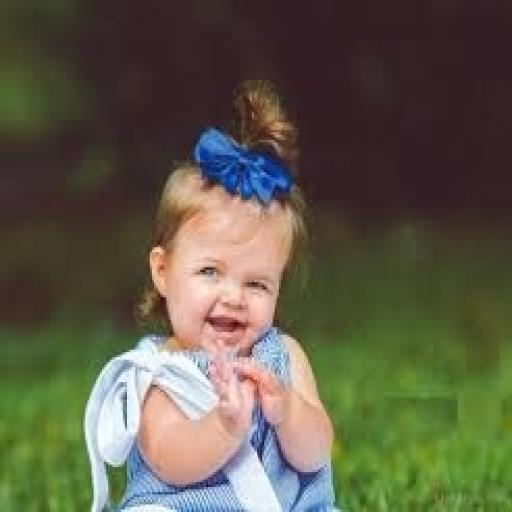laughing: (75, 72, 366, 510)
